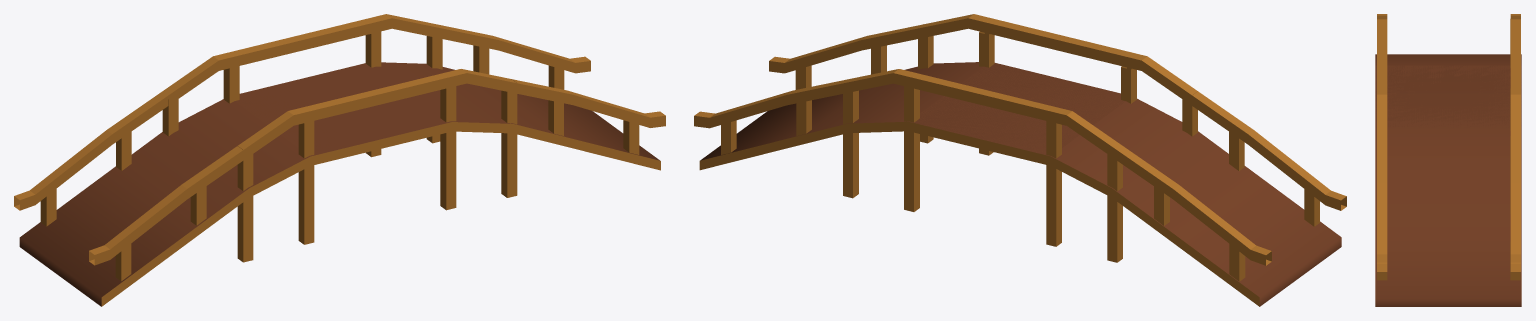
Rendered from puente marron_2.fbx.
3 renders of one model, left to right at view 1: azimuth 30°, elevation 25°; view 2: azimuth 150°, elevation 25°; view 3: azimuth 270°, elevation 25°, orthographic. The views are drawn at different scales.
Visible parts, largest first — view 1: Cubo; view 2: Cubo; view 3: Cubo.
Part boxes in pixels (box(x1,y1,x2,y2)): Cubo: box(14, 14, 665, 306); Cubo: box(694, 14, 1346, 306); Cubo: box(1375, 14, 1521, 306).
Size of the model in its own units: 67.63 by 16.29 by 16.8.
